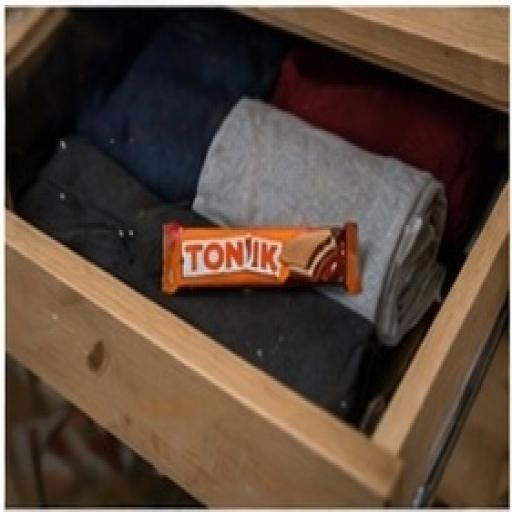tonik: (55, 115, 401, 397)
